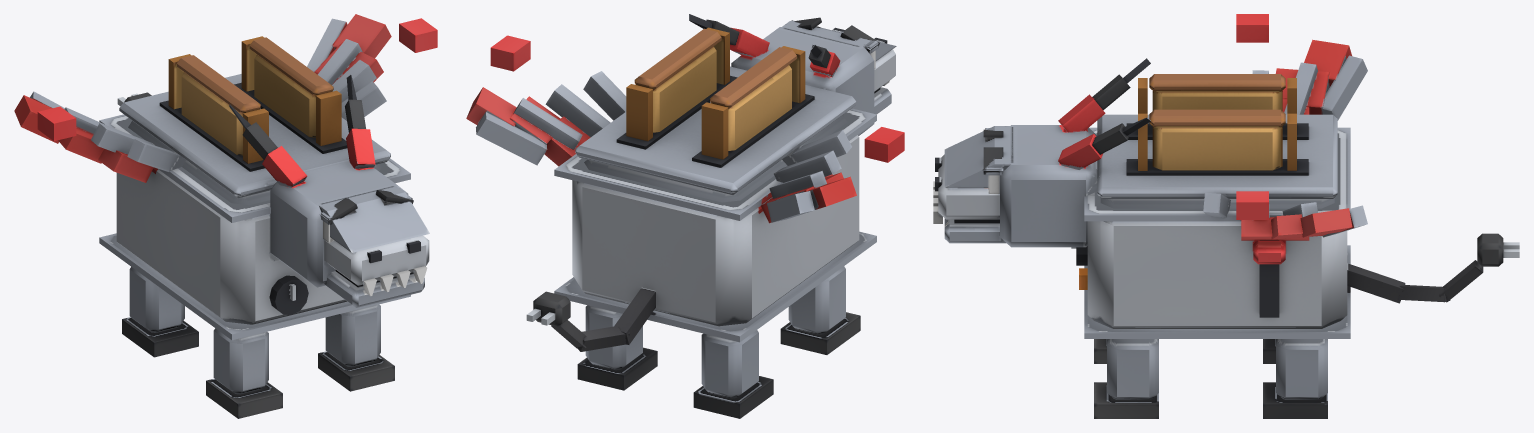
File: DragonGrillePain_Rig.fbx
3 views of the same model, side by side, from view 1: azimuth 30°, elevation 25°; view 2: azimuth 150°, elevation 25°; view 3: azimuth 270°, elevation 25° (orthographic). The views are drawn at different scales.
Parts seen in each view (by area): view 1: Body, Head, Toast1, WingL, WingR, Toast0, LegFR, LegFL, LegBR, Jaw; view 2: Body, WingL, Head, Toast0, Toast1, WingR, LegBR, LegFR, Tail, LegBL; view 3: Body, Head, Toast1, Toast0, WingR, WingL, LegBL, LegFL, Tail, Jaw.
Part boxes in pixels (x1=…): Body: x1=99, y1=74, x2=410, y2=340; Head: x1=229, y1=75, x2=429, y2=296; Toast1: x1=241, y1=36, x2=341, y2=145; WingL: x1=307, y1=14, x2=437, y2=120; WingR: x1=14, y1=91, x2=185, y2=182; Toast0: x1=168, y1=54, x2=268, y2=163; LegFR: x1=206, y1=328, x2=282, y2=418; LegFL: x1=318, y1=304, x2=394, y2=391; LegBR: x1=122, y1=266, x2=198, y2=357; Jaw: x1=324, y1=270, x2=424, y2=307; Body: x1=554, y1=66, x2=876, y2=342; WingL: x1=466, y1=35, x2=626, y2=166; Head: x1=689, y1=14, x2=896, y2=135; Toast0: x1=701, y1=46, x2=805, y2=159; Toast1: x1=626, y1=27, x2=729, y2=141; WingR: x1=761, y1=127, x2=904, y2=223; LegBR: x1=693, y1=330, x2=773, y2=418; LegFR: x1=780, y1=266, x2=860, y2=354; Tail: x1=526, y1=287, x2=655, y2=351; LegBL: x1=577, y1=305, x2=657, y2=390; Body: x1=1071, y1=114, x2=1350, y2=338; Head: x1=933, y1=58, x2=1150, y2=247; Toast1: x1=1138, y1=109, x2=1296, y2=170; Toast0: x1=1138, y1=74, x2=1296, y2=126; WingR: x1=1236, y1=14, x2=1367, y2=120; WingL: x1=1203, y1=191, x2=1367, y2=240; LegBL: x1=1263, y1=339, x2=1327, y2=418; LegFL: x1=1094, y1=339, x2=1158, y2=418; Tail: x1=1347, y1=233, x2=1519, y2=303; Jaw: x1=944, y1=218, x2=1006, y2=243.
Size of the model in its own units: 8.27 by 6 by 10.89.
1 material, 1 textured.
